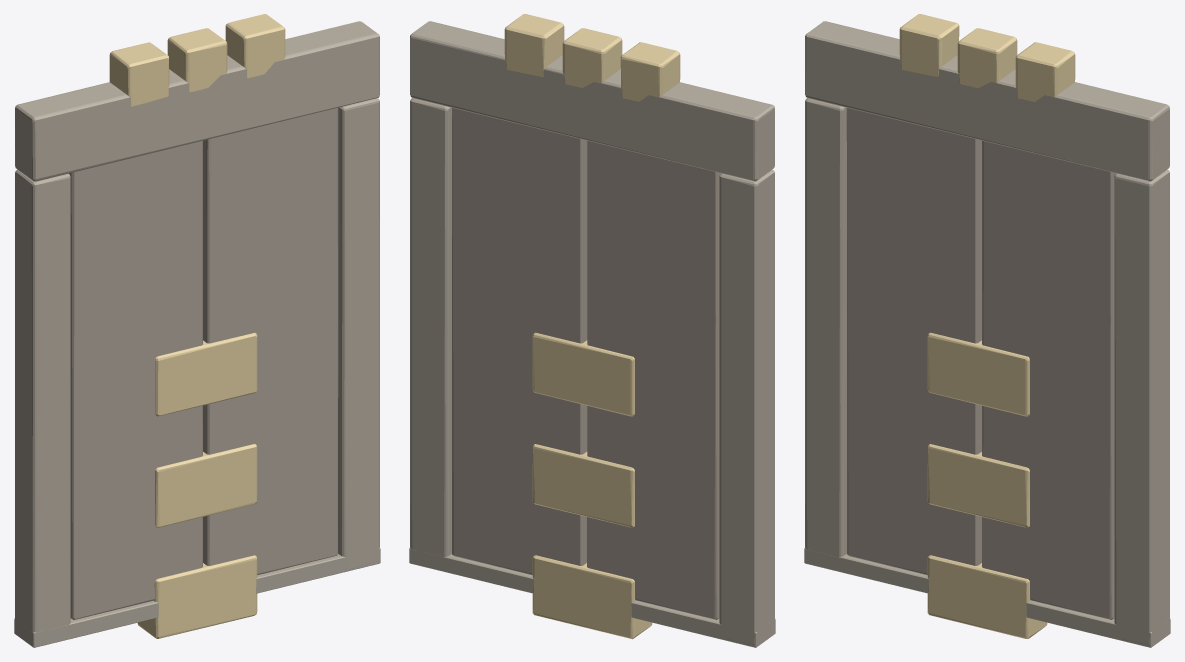
The model's file is 25-Ruinas-Templos_puerta_templo.glb.
3 renders of one model, left to right at view 1: azimuth 30°, elevation 25°; view 2: azimuth 150°, elevation 25°; view 3: azimuth 330°, elevation 25°, orthographic.
Visible parts, largest first — view 1: SM_Puerta_M_Hoja_Puerta, SM_Puerta_M_Marco_Puerta, SM_Puerta_M_Talla_Puerta; view 2: SM_Puerta_M_Hoja_Puerta, SM_Puerta_M_Marco_Puerta, SM_Puerta_M_Talla_Puerta; view 3: SM_Puerta_M_Hoja_Puerta, SM_Puerta_M_Marco_Puerta, SM_Puerta_M_Talla_Puerta.
Boxes of the visible parts, left/top/right/bottom form: SM_Puerta_M_Hoja_Puerta: left=69, top=107, right=338, bottom=619; SM_Puerta_M_Marco_Puerta: left=14, top=21, right=380, bottom=647; SM_Puerta_M_Talla_Puerta: left=109, top=14, right=285, bottom=638; SM_Puerta_M_Hoja_Puerta: left=452, top=108, right=721, bottom=619; SM_Puerta_M_Marco_Puerta: left=409, top=21, right=775, bottom=647; SM_Puerta_M_Talla_Puerta: left=504, top=14, right=680, bottom=639; SM_Puerta_M_Hoja_Puerta: left=846, top=108, right=1116, bottom=619; SM_Puerta_M_Marco_Puerta: left=804, top=21, right=1170, bottom=647; SM_Puerta_M_Talla_Puerta: left=899, top=14, right=1075, bottom=638.
Bounding box in the file's own units: 1.8 × 2.88 × 0.1793.
